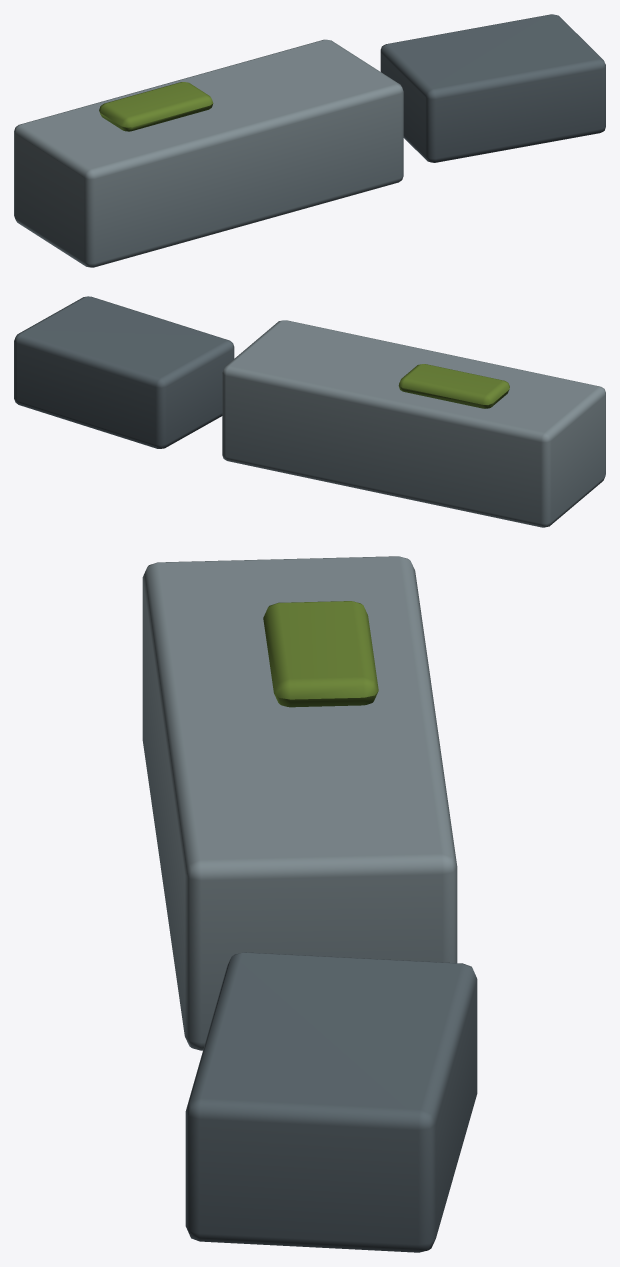
Rendered from road_kerb.glb.
3 views of the same model, one above another, from view 1: azimuth 30°, elevation 25°; view 2: azimuth 150°, elevation 25°; view 3: azimuth 270°, elevation 25° (orthographic). The views are drawn at different scales.
Parts seen in each view (by area): view 1: road_kerb; view 2: road_kerb; view 3: road_kerb.
Part boxes in pixels (x1=…): road_kerb: x1=14, y1=14, x2=605, y2=267; road_kerb: x1=14, y1=296, x2=605, y2=527; road_kerb: x1=142, y1=556, x2=477, y2=1252.
Bounding box in the file's own units: 1.17 × 0.225 × 0.3187.
